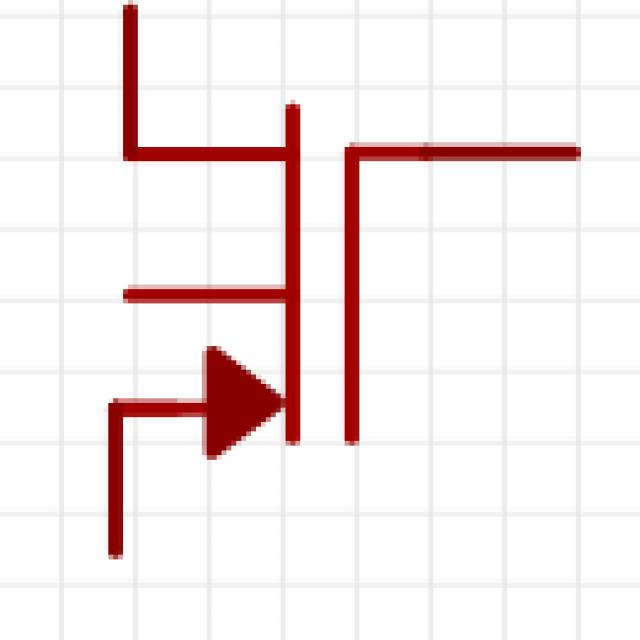pmos: (79, 41, 625, 542)
